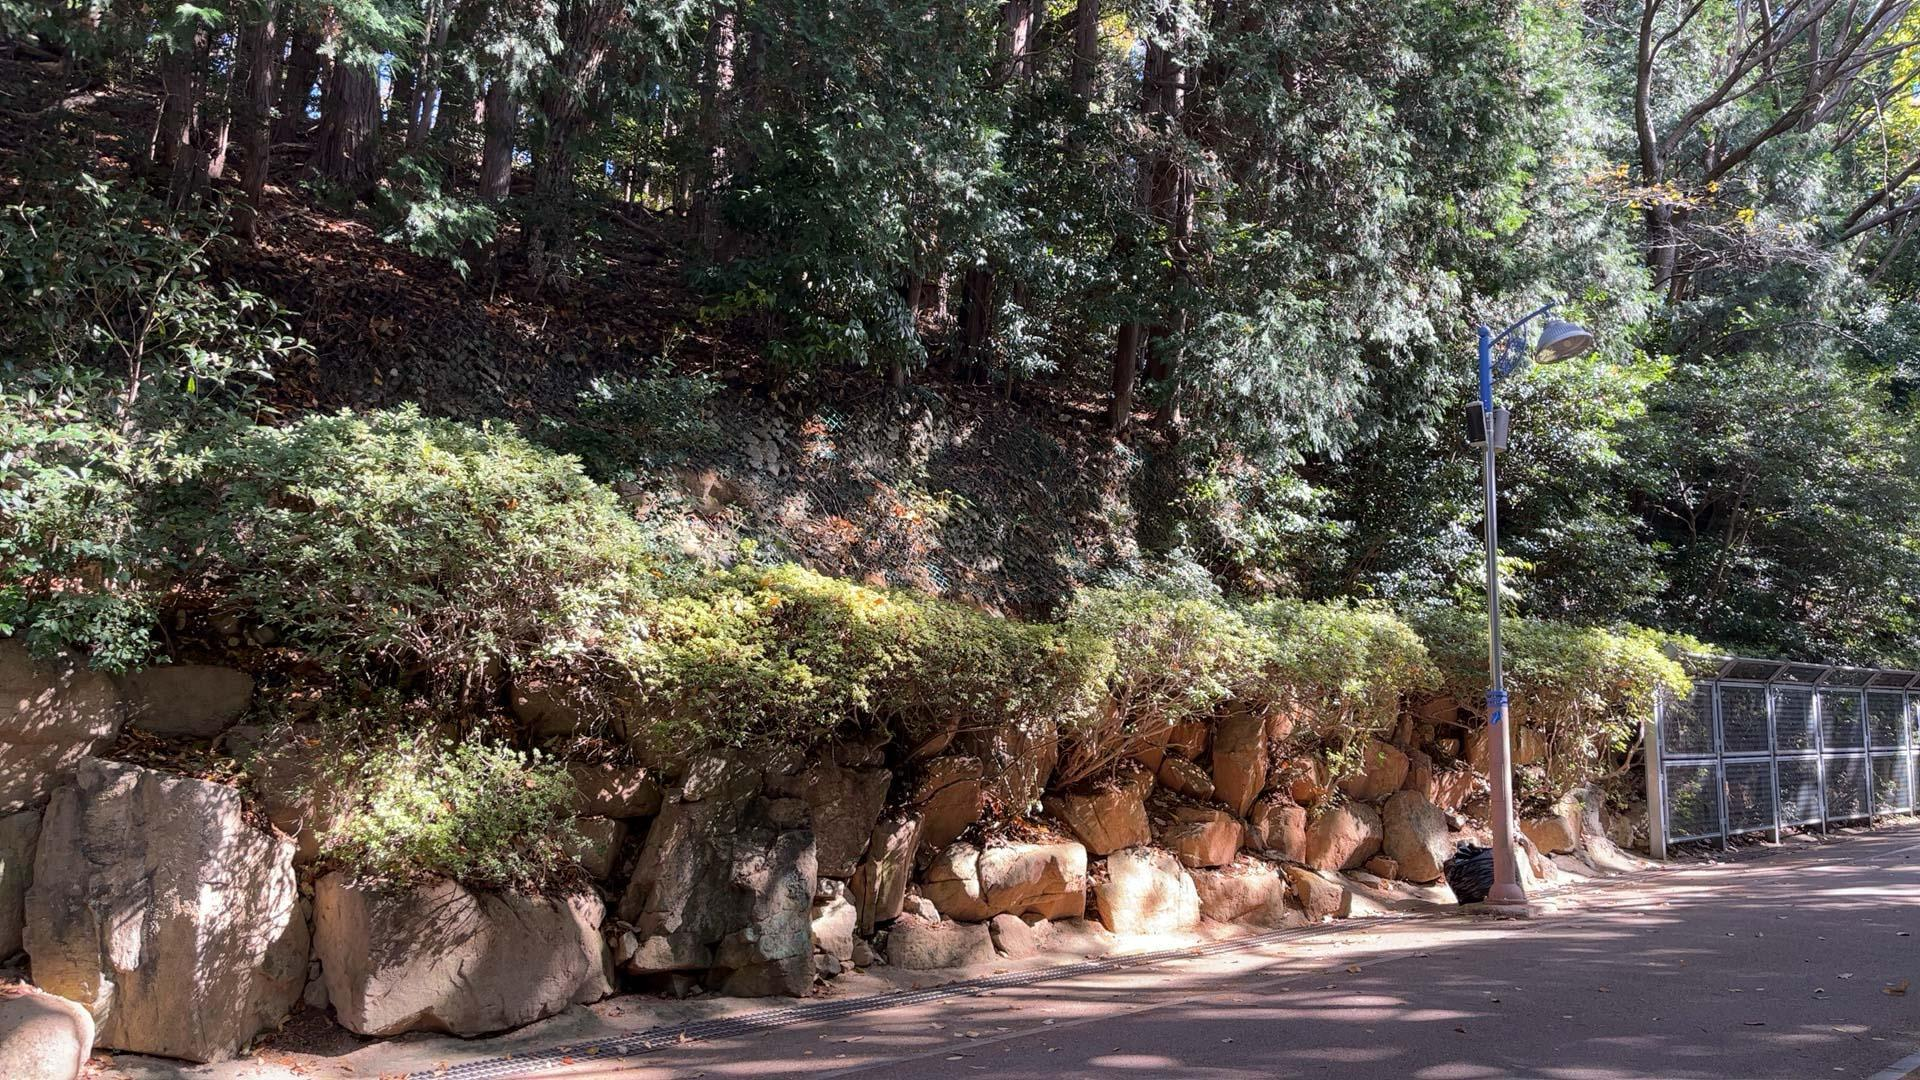black_bag: (1435, 837, 1527, 907)
